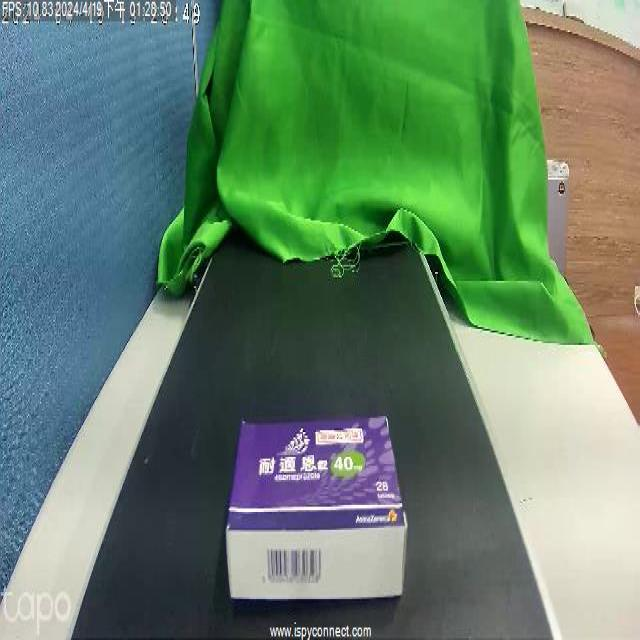box: (220, 417, 400, 616)
